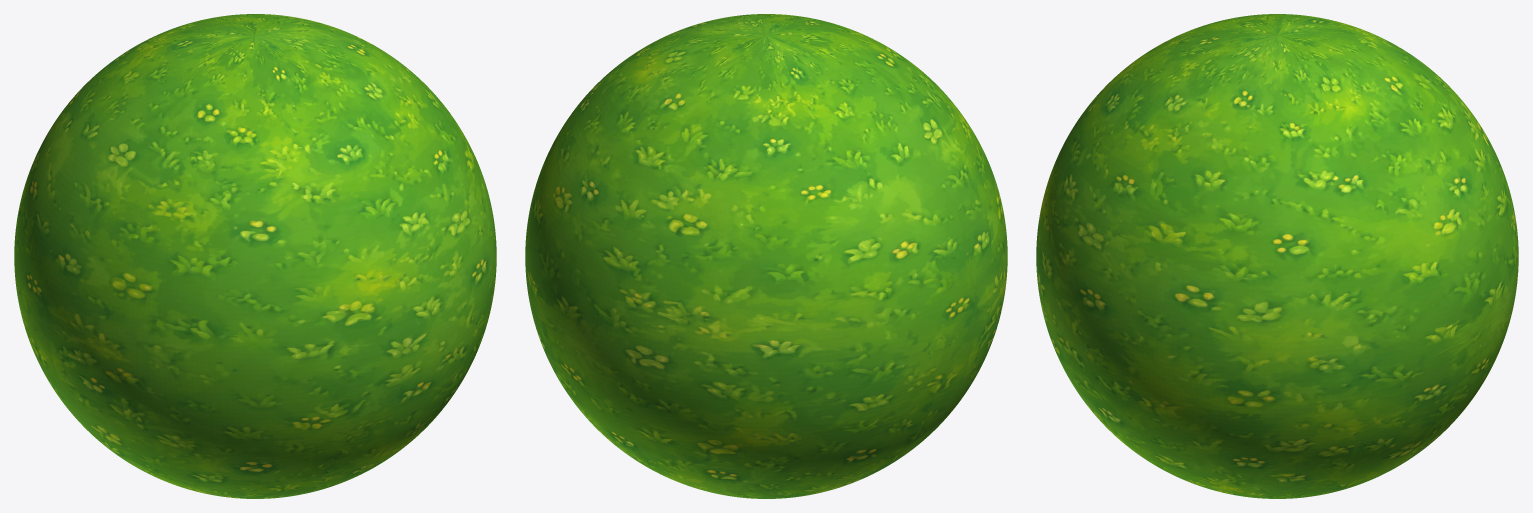
File: planet_2.fbx
3 renders of one model, left to right at view 1: azimuth 30°, elevation 25°; view 2: azimuth 150°, elevation 25°; view 3: azimuth 270°, elevation 25°, orthographic.
Parts seen in each view (by area): view 1: 球; view 2: 球; view 3: 球.
Part boxes in pixels (box(x1,y1,x2,y2)): 球: box(14, 14, 496, 498); 球: box(525, 14, 1007, 498); 球: box(1036, 14, 1518, 498).
Bounding box in the file's own units: 197 × 200 × 197.
